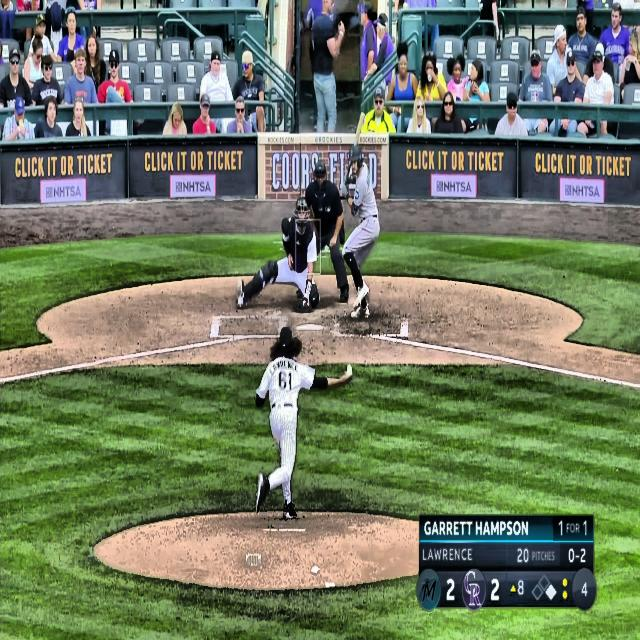baseball: (346, 364, 353, 377)
